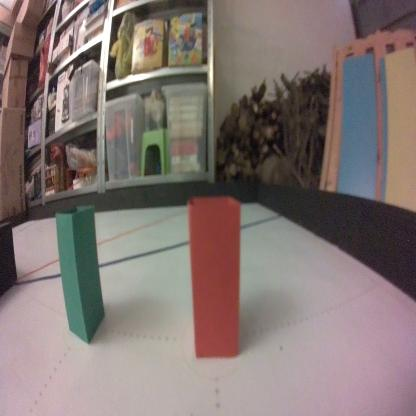green: (53, 200, 106, 349)
red: (186, 192, 244, 364)
